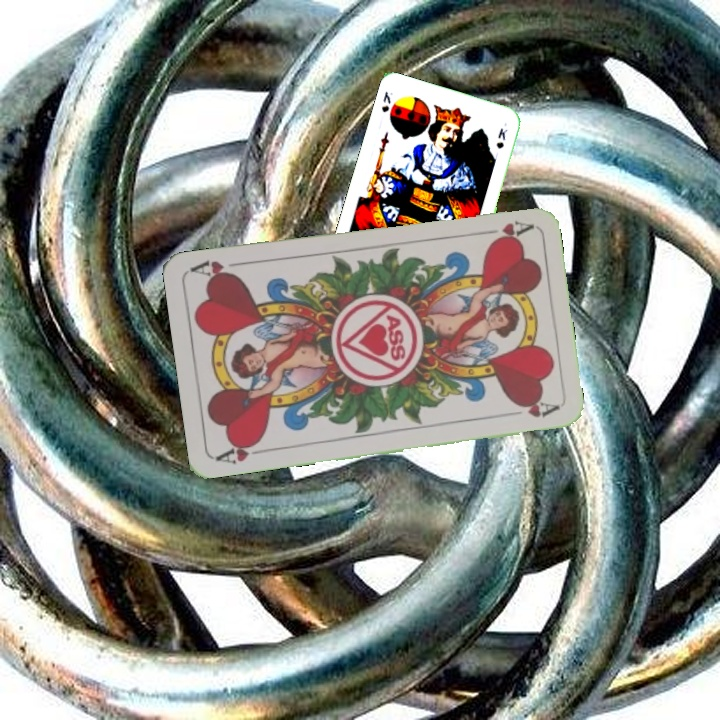HA: (213, 436, 272, 467), (475, 217, 534, 244)
SK: (377, 87, 395, 115)
